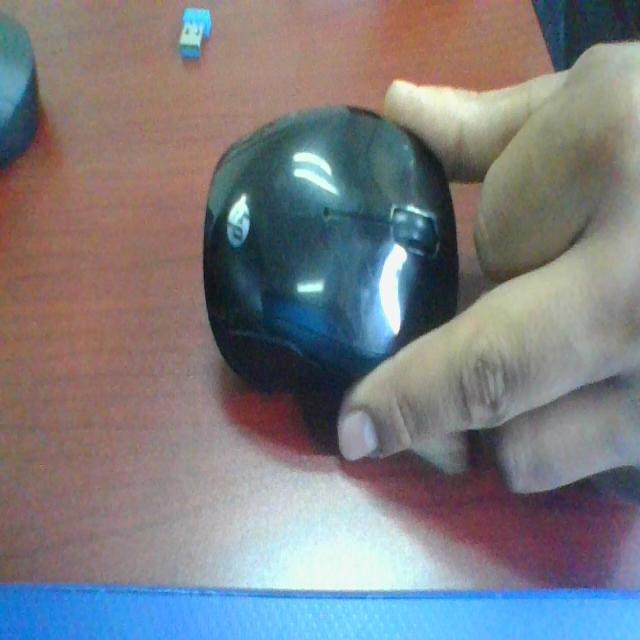mouse: (202, 105, 461, 399)
